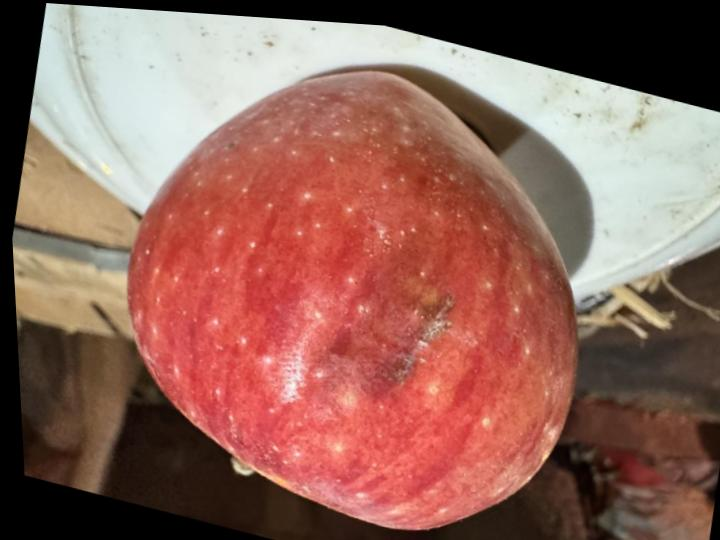apple: (127, 71, 576, 529)
surface_damage: (389, 294, 460, 391)
